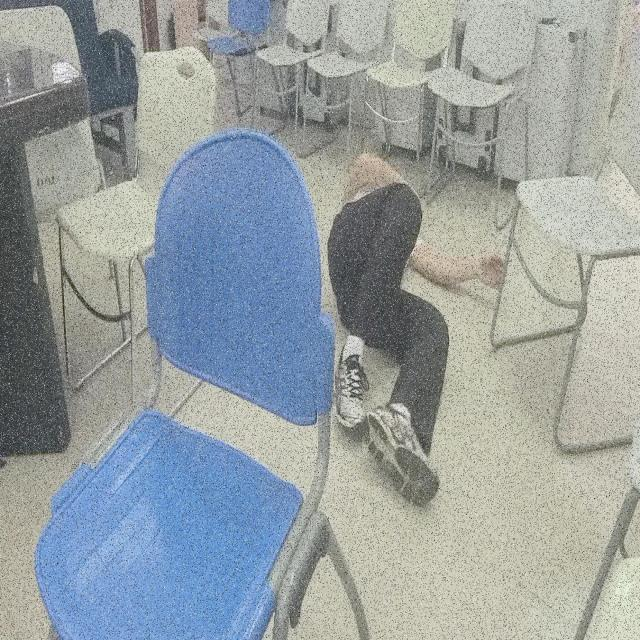fall: (328, 148, 508, 508)
